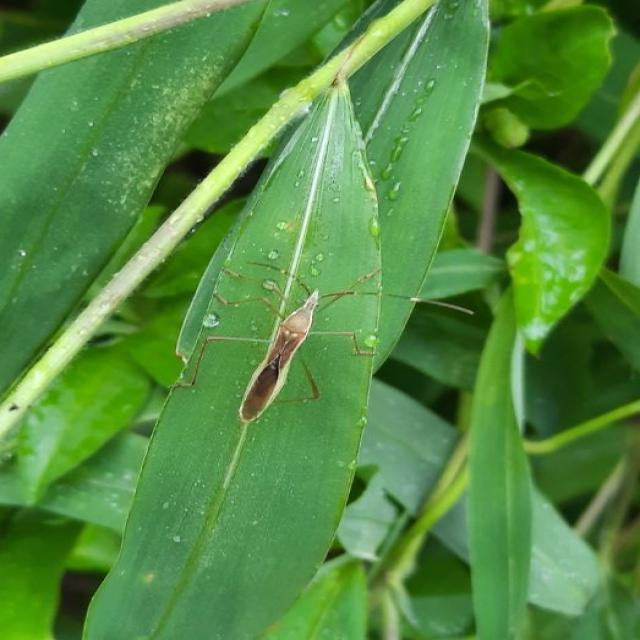walang sangit pada tanaman padi: (197, 256, 478, 436)
